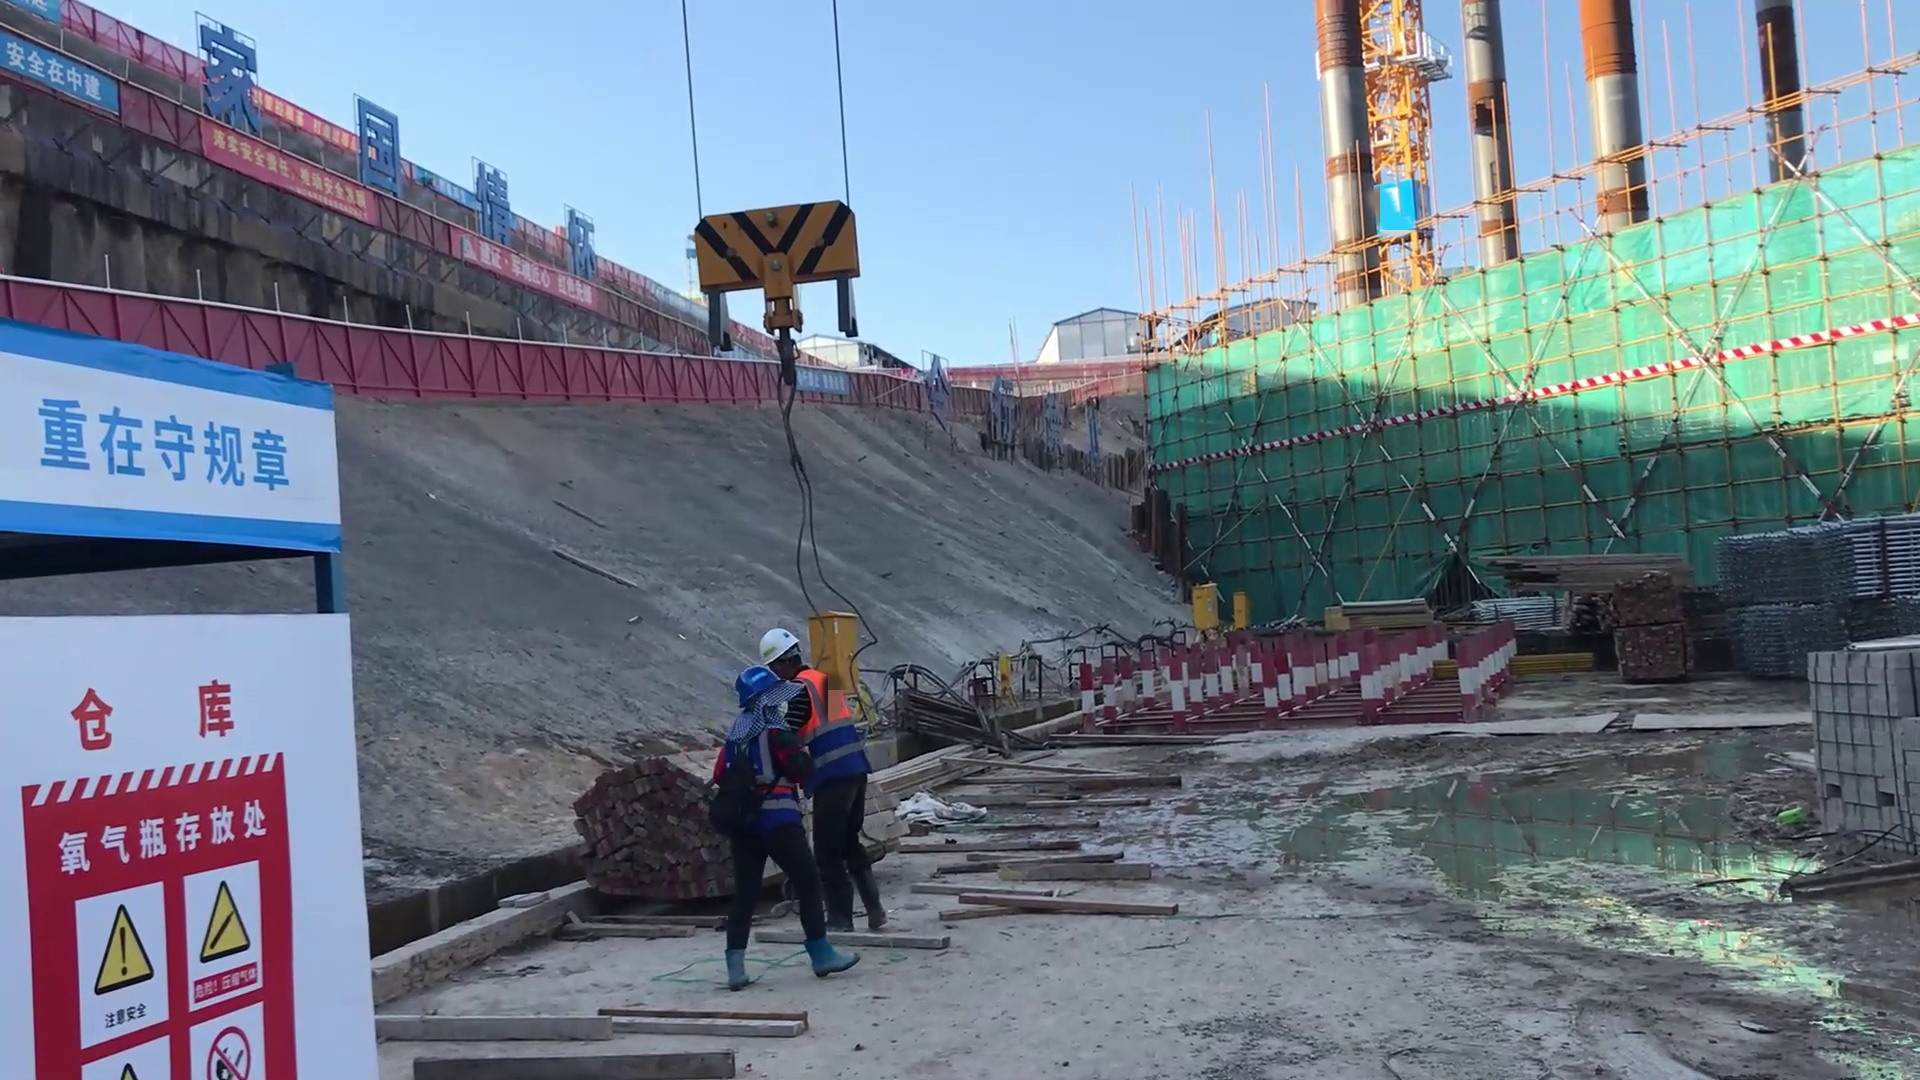brick: (1804, 641, 1920, 863)
ebox: (1190, 584, 1220, 632), (1230, 593, 1248, 631)
fence: (330, 312, 622, 400), (622, 344, 782, 400)
helmet: (734, 659, 794, 718), (756, 620, 797, 665)
hook: (682, 191, 873, 353)
person: (747, 626, 893, 936), (723, 666, 851, 987)
scaffold: (1712, 522, 1920, 610)
slogan: (21, 737, 324, 1080), (1, 385, 337, 504), (203, 122, 378, 264), (8, 38, 148, 165)
vest: (796, 669, 847, 733)
wood: (555, 746, 721, 915), (1486, 534, 1684, 597)
